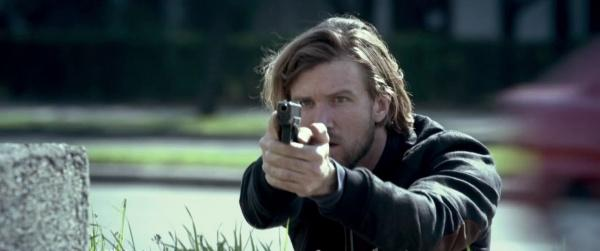Gun: (276, 101, 302, 144)
